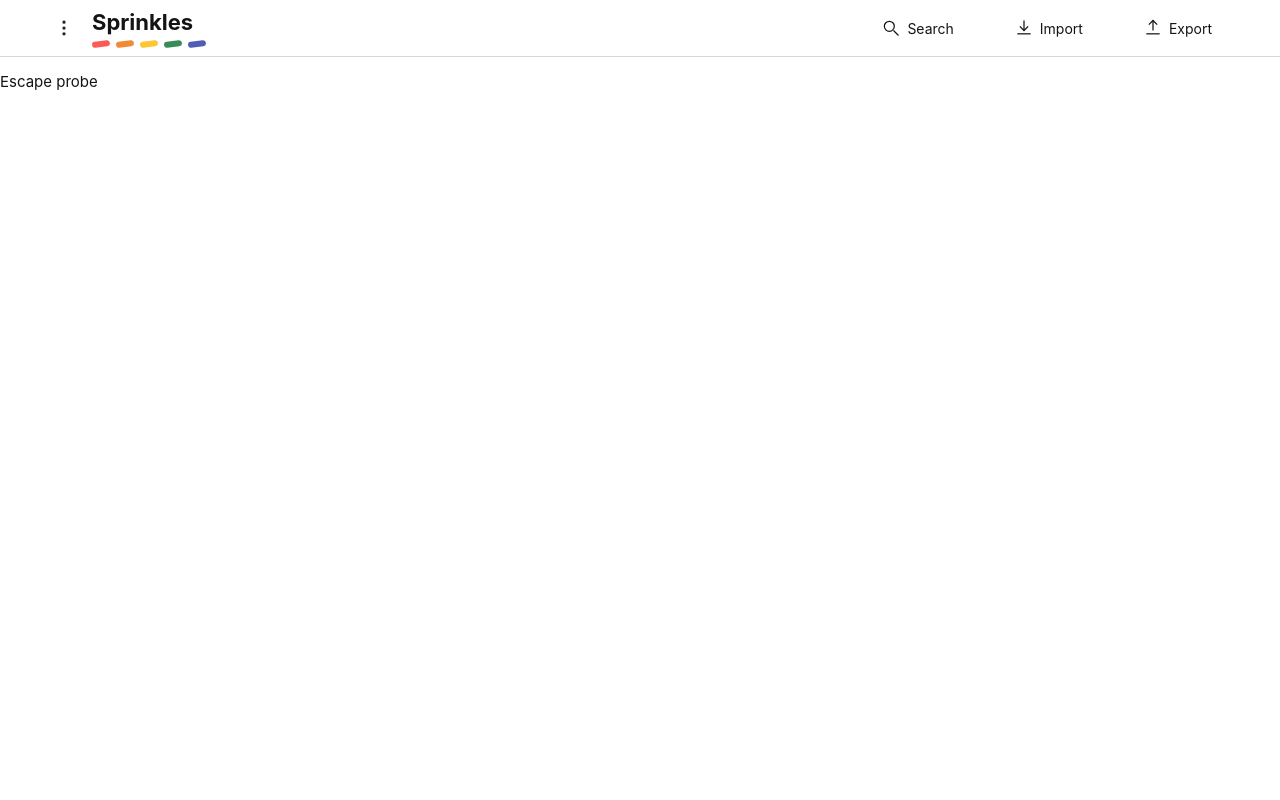
Test: opening (I2) › opens the panel over a scrim, makes main inert but not the bar, and focuses Home
The width and height of the screenshot is (1280, 800).
Click the button with class "shell__menu". click: click(64, 28)
box: x1=42 y1=6 x2=86 y2=50
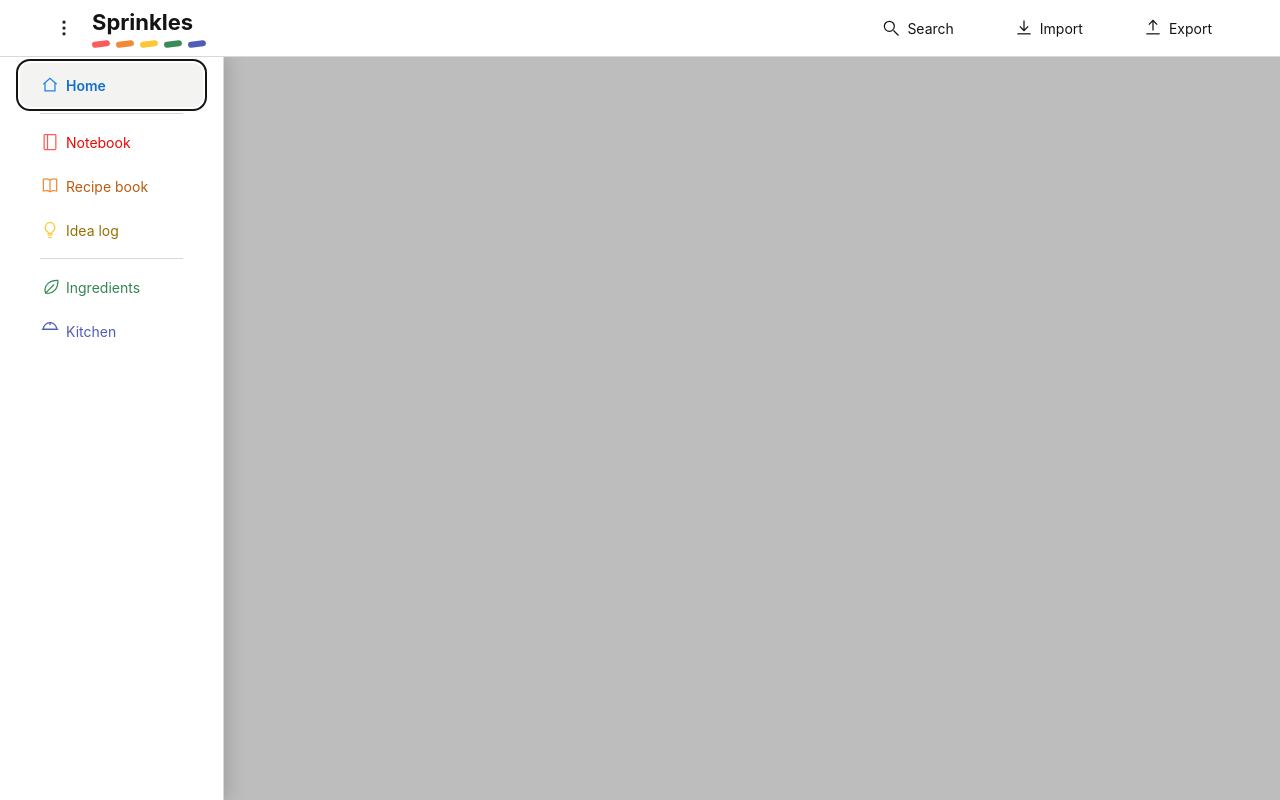
Expected: the element with class "shell__scrim" is shown
